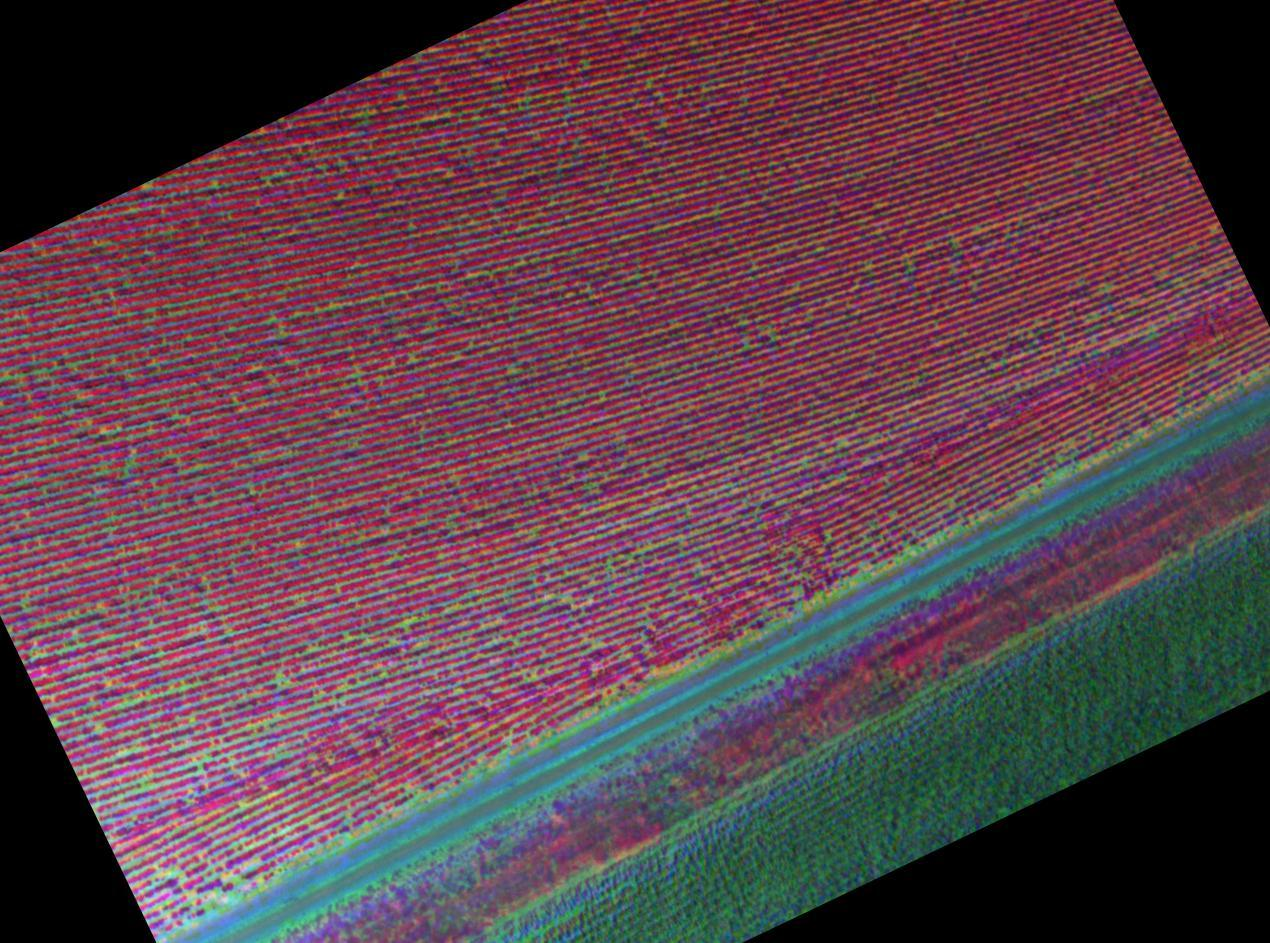dc: (233, 878, 239, 883), (276, 677, 281, 681), (198, 761, 202, 765), (170, 873, 174, 877), (745, 346, 748, 349), (564, 594, 567, 597)
